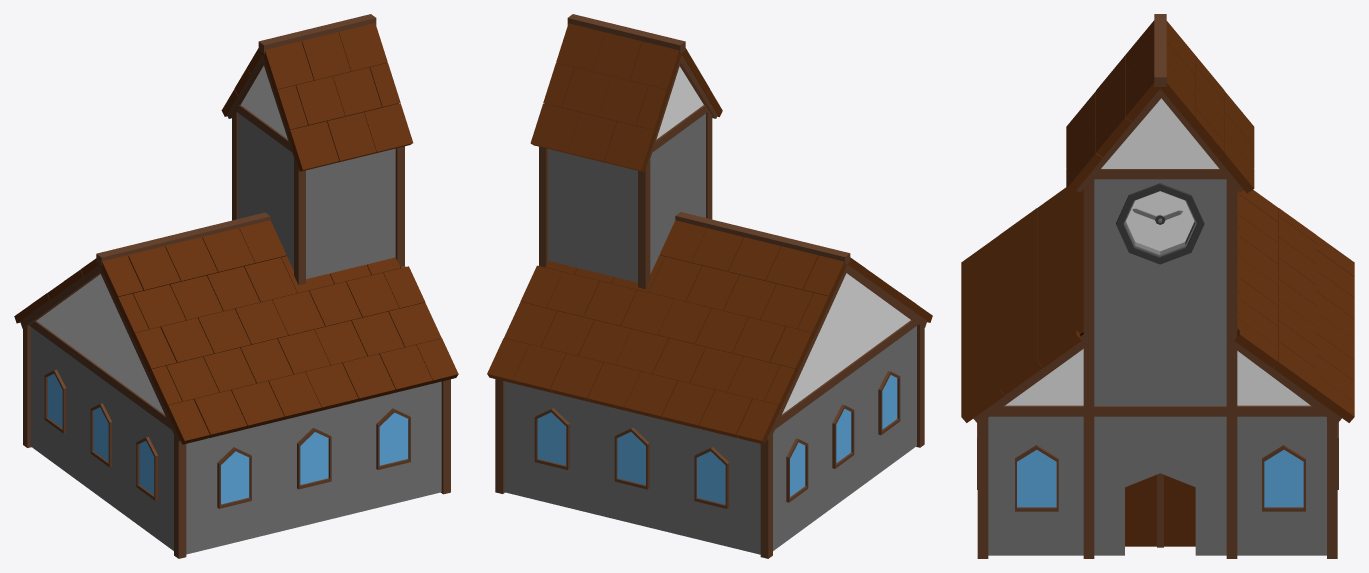
The model's file is churche.fbx.
3 renders of one model, left to right at view 1: azimuth 30°, elevation 25°; view 2: azimuth 150°, elevation 25°; view 3: azimuth 270°, elevation 25°, orthographic. The views are drawn at different scales.
Visible parts, largest first — view 1: churche; view 2: churche; view 3: churche.
Part boxes in pixels (x1,y1,x2,y2): churche: (14, 14, 458, 558); churche: (487, 14, 932, 558); churche: (961, 14, 1354, 558).
Size of the model in its own units: 1041 by 1509 by 1115.
Materials: 1 (1 with a texture image).
